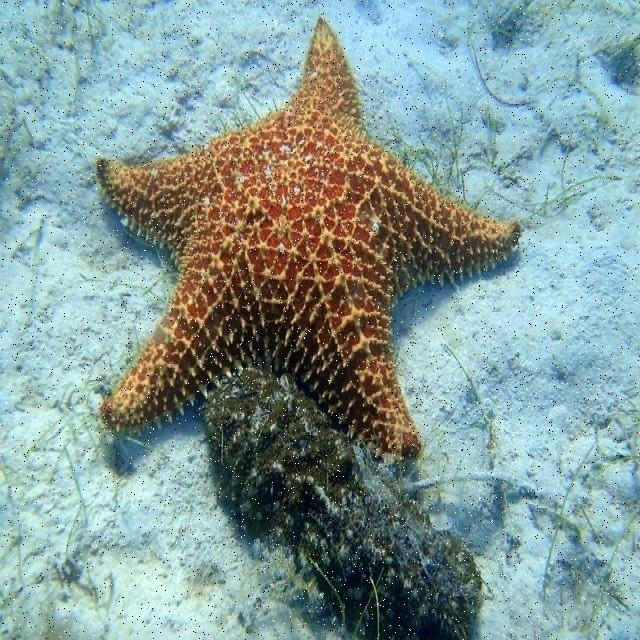reefs: (97, 18, 521, 461), (204, 366, 481, 638)
